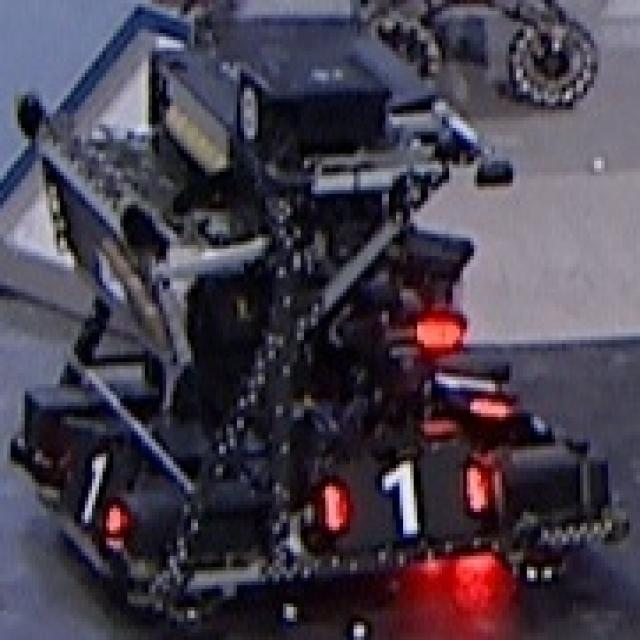R1: (322, 457, 491, 538)
